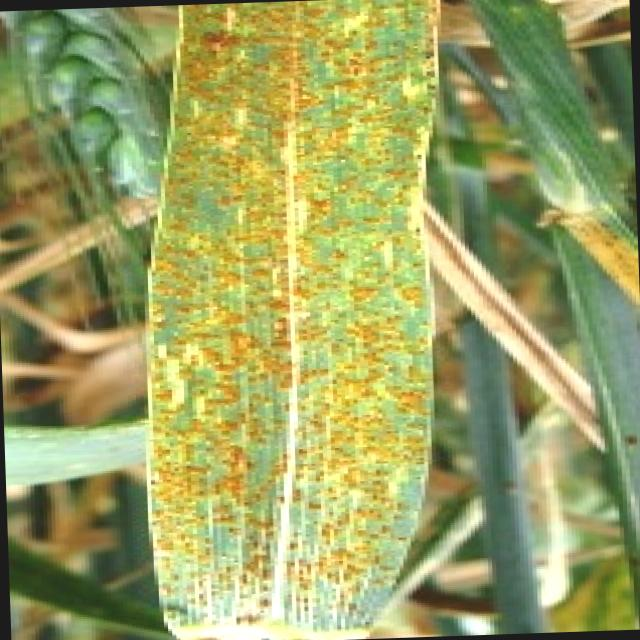leaf_rust: (150, 0, 436, 640)
